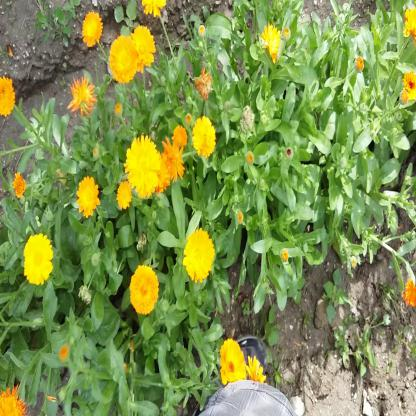marigold: (124, 135, 160, 197), (182, 230, 212, 282), (24, 234, 51, 288), (129, 268, 158, 314), (109, 38, 137, 81), (218, 340, 244, 386), (67, 74, 94, 115), (132, 25, 155, 72), (192, 116, 216, 156), (76, 176, 98, 219), (163, 139, 184, 180), (81, 11, 102, 44), (0, 76, 15, 117), (115, 178, 132, 208), (173, 125, 188, 144)
